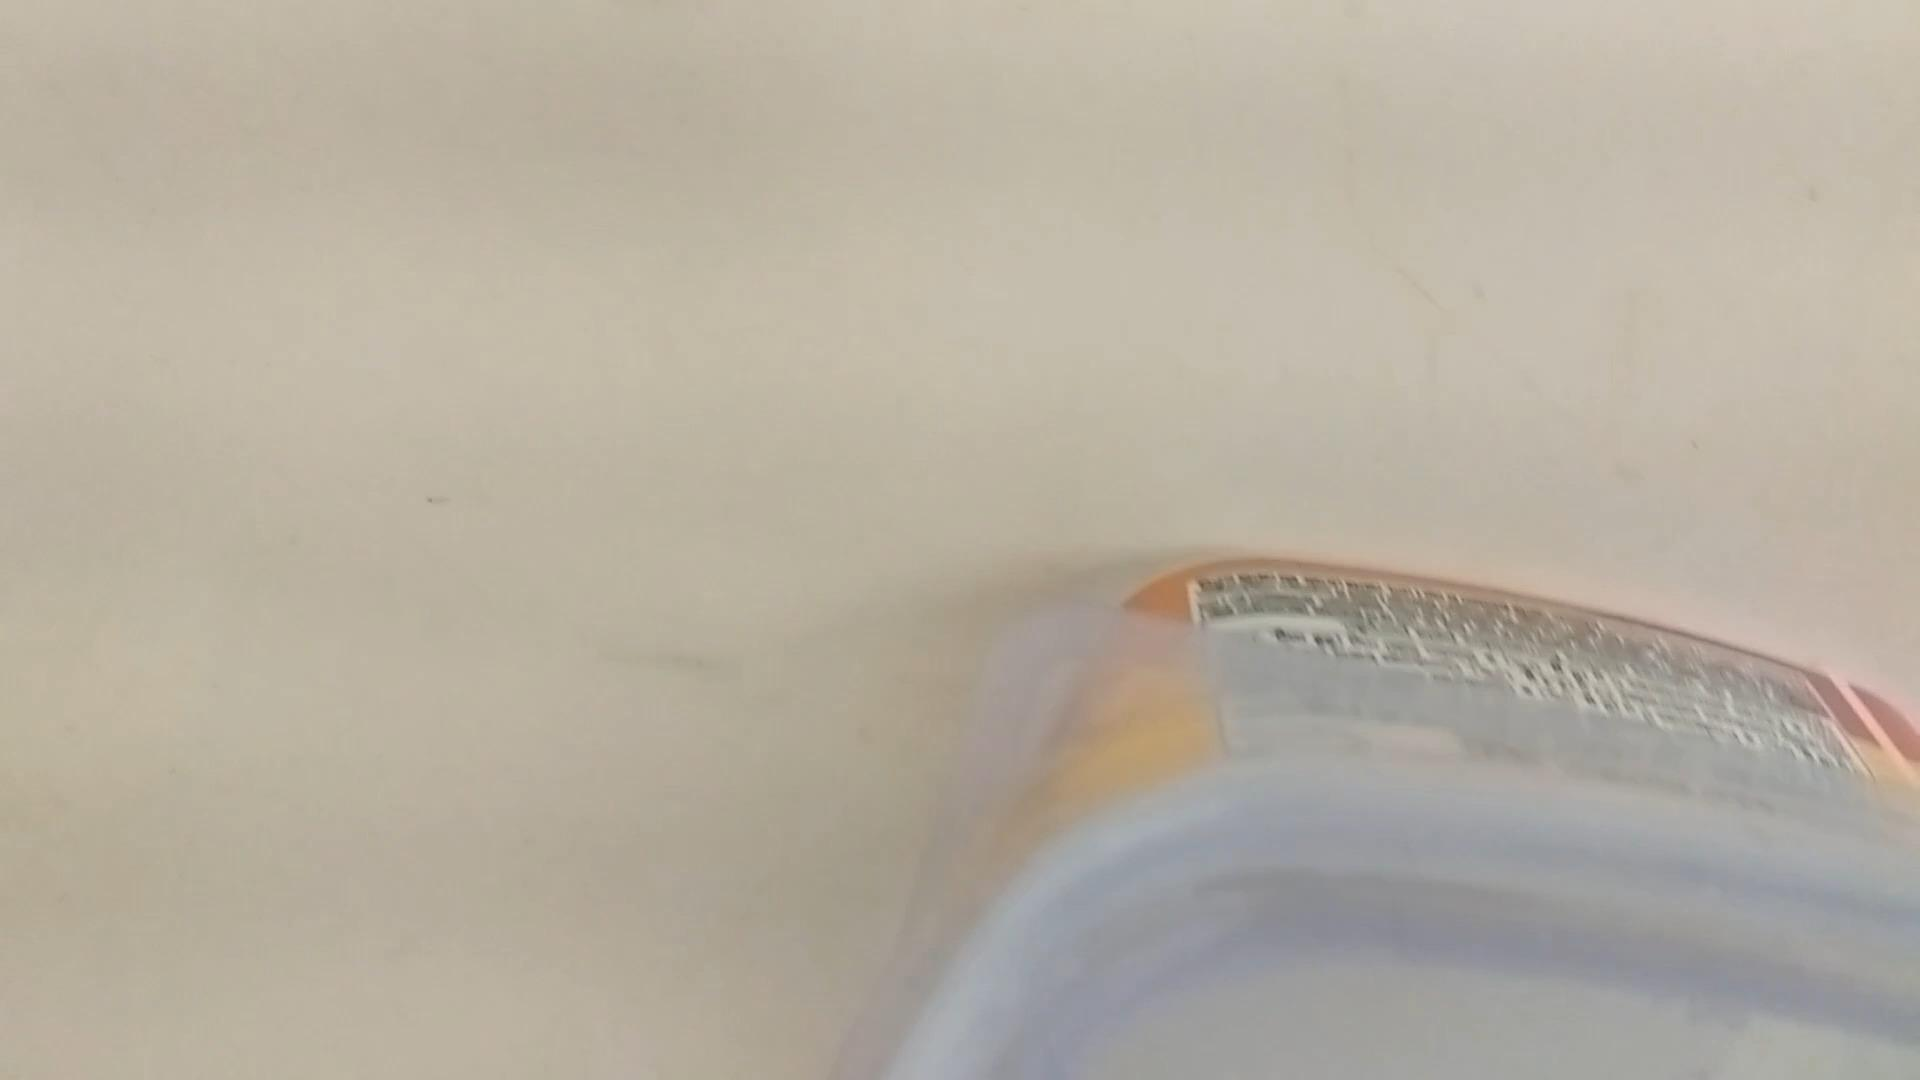butter: (873, 527, 1920, 1080)
